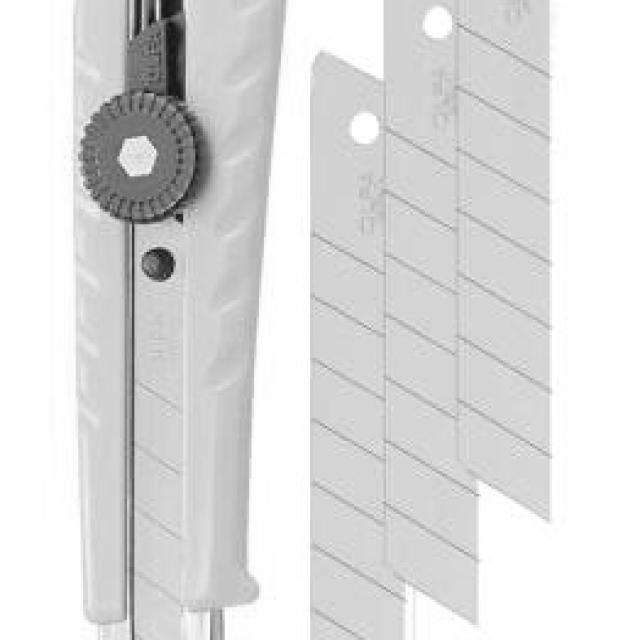estilete: (75, 0, 284, 640)
